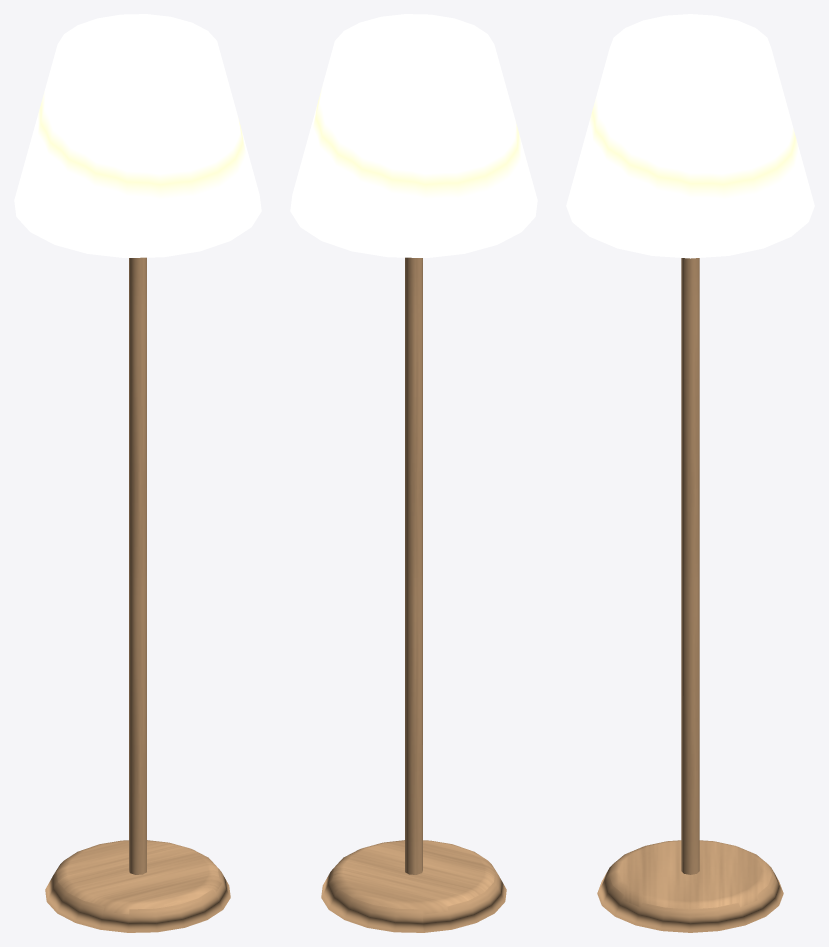
Rendered from prop_floor_lamp.glb.
3 views of the same model, side by side, from view 1: azimuth 30°, elevation 25°; view 2: azimuth 150°, elevation 25°; view 3: azimuth 270°, elevation 25° (orthographic).
Parts seen in each view (by area): view 1: prop_floor_lamp; view 2: prop_floor_lamp; view 3: prop_floor_lamp.
Part boxes in pixels (left/top/right/bottom): prop_floor_lamp: left=14, top=14, right=261, bottom=932; prop_floor_lamp: left=290, top=14, right=537, bottom=932; prop_floor_lamp: left=566, top=14, right=814, bottom=932.
Size of the model in its own units: 0.5 by 1.88 by 0.5.
2 materials, 1 textured.
